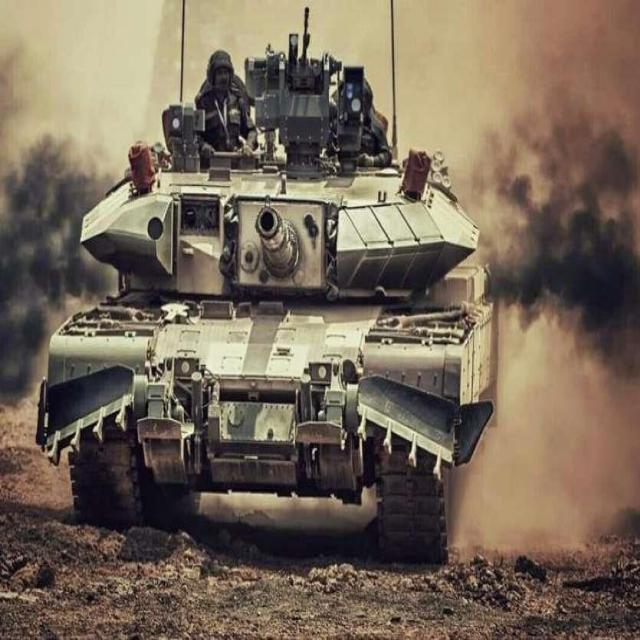Tanks: (39, 174, 505, 604)
